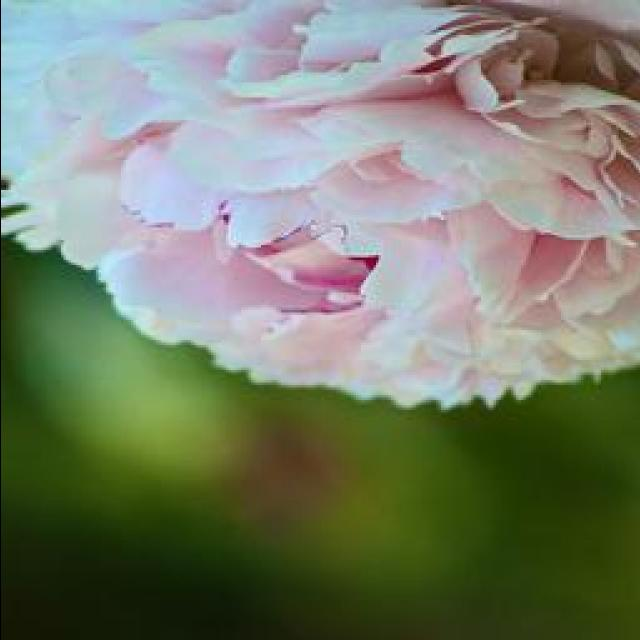carnation: (0, 0, 640, 421)
